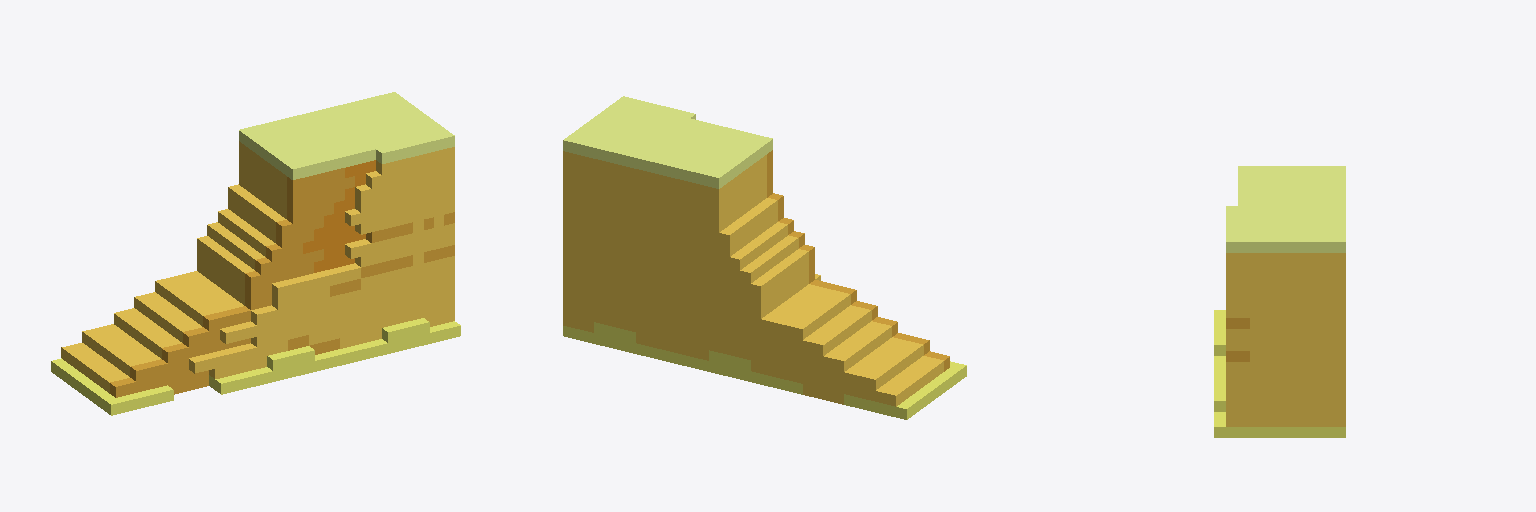
The picture shows the model from 3 angles: view 1: azimuth 30°, elevation 25°; view 2: azimuth 150°, elevation 25°; view 3: azimuth 270°, elevation 25°; orthographic projection.
Size of the model in its own units: 33 by 18 by 11.
1 materials, 1 textured.